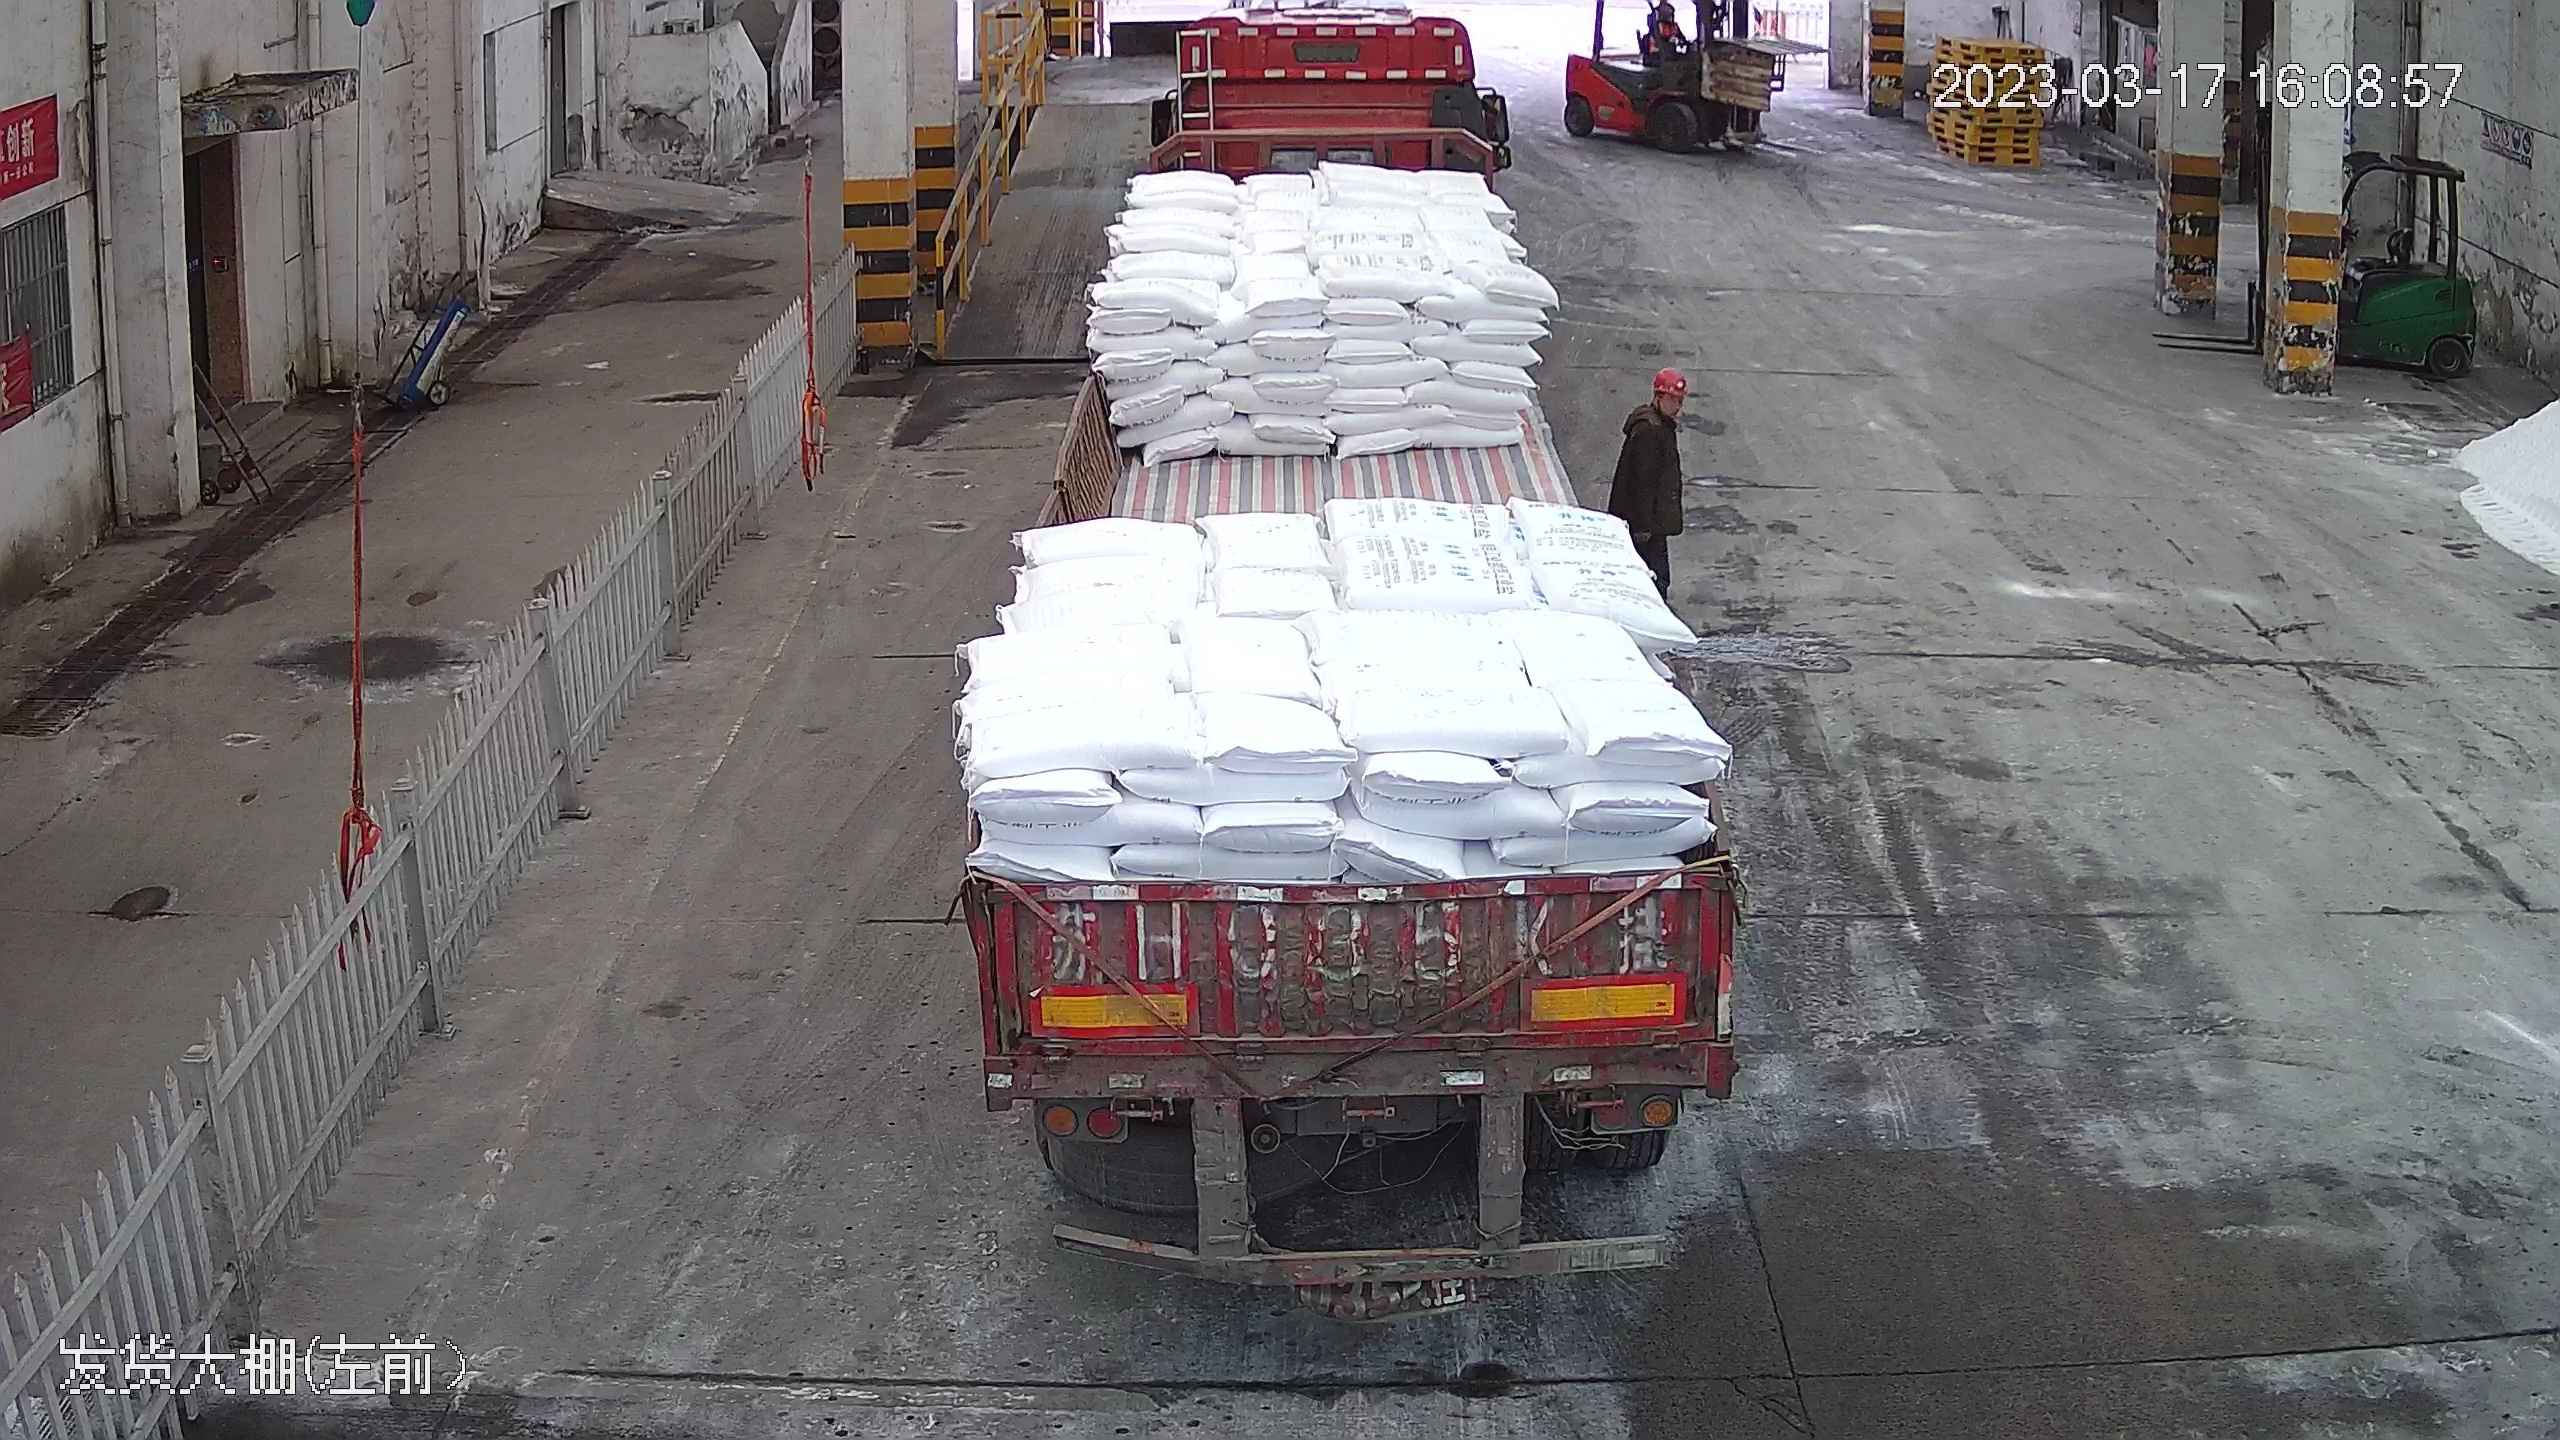head: (1620, 364, 1692, 446)
helmet: (1650, 364, 1692, 398)
people: (1607, 360, 1700, 604)
truck: (962, 12, 1756, 1221)
